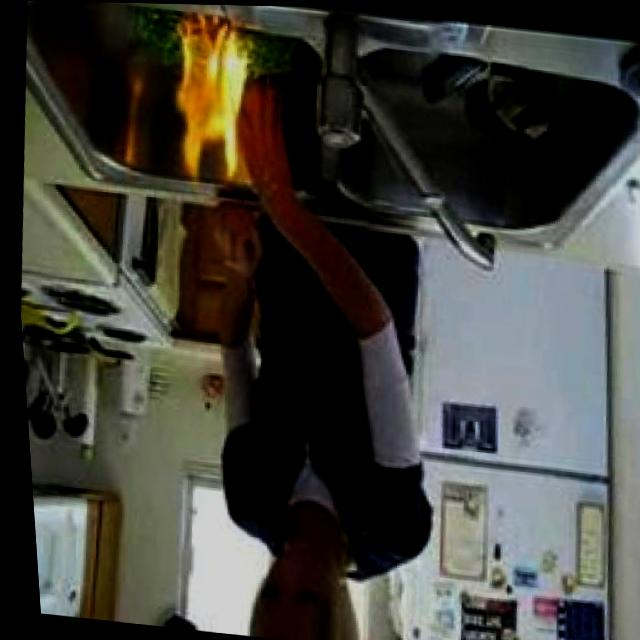Fire: (167, 23, 255, 174)
